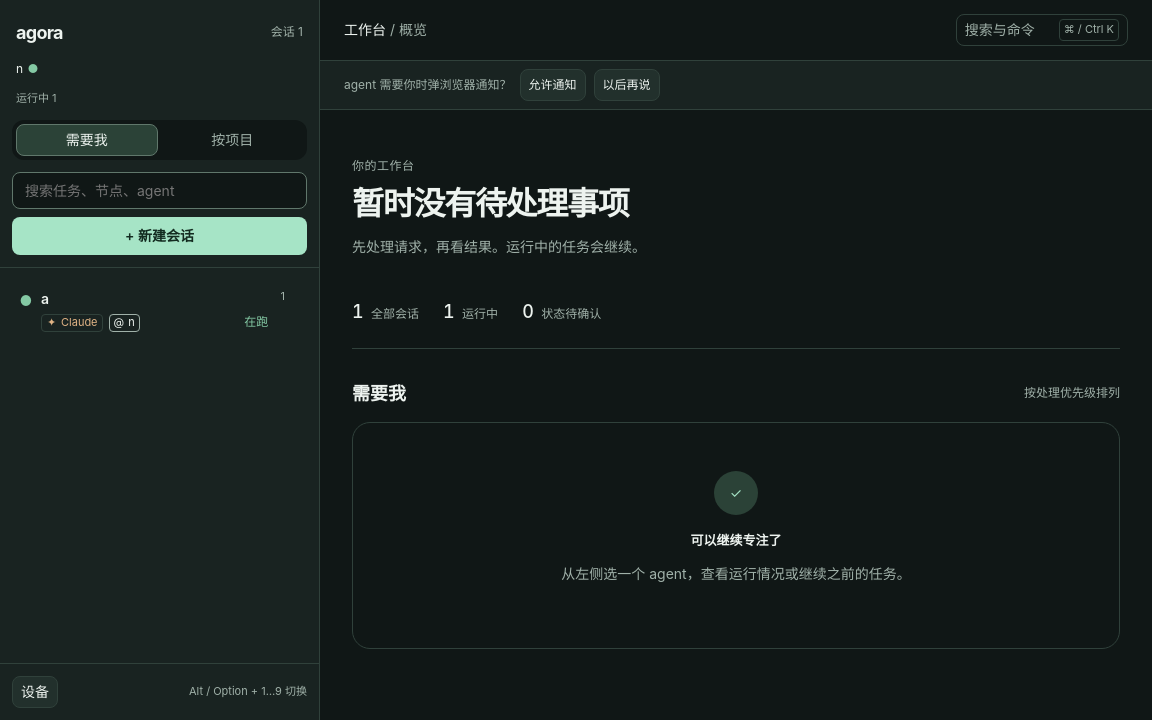
Test case: Workspace › asks for notification permission once, in a banner that goes away after the answer
Click the button "允许通知": (552, 85) [520, 69, 586, 101]
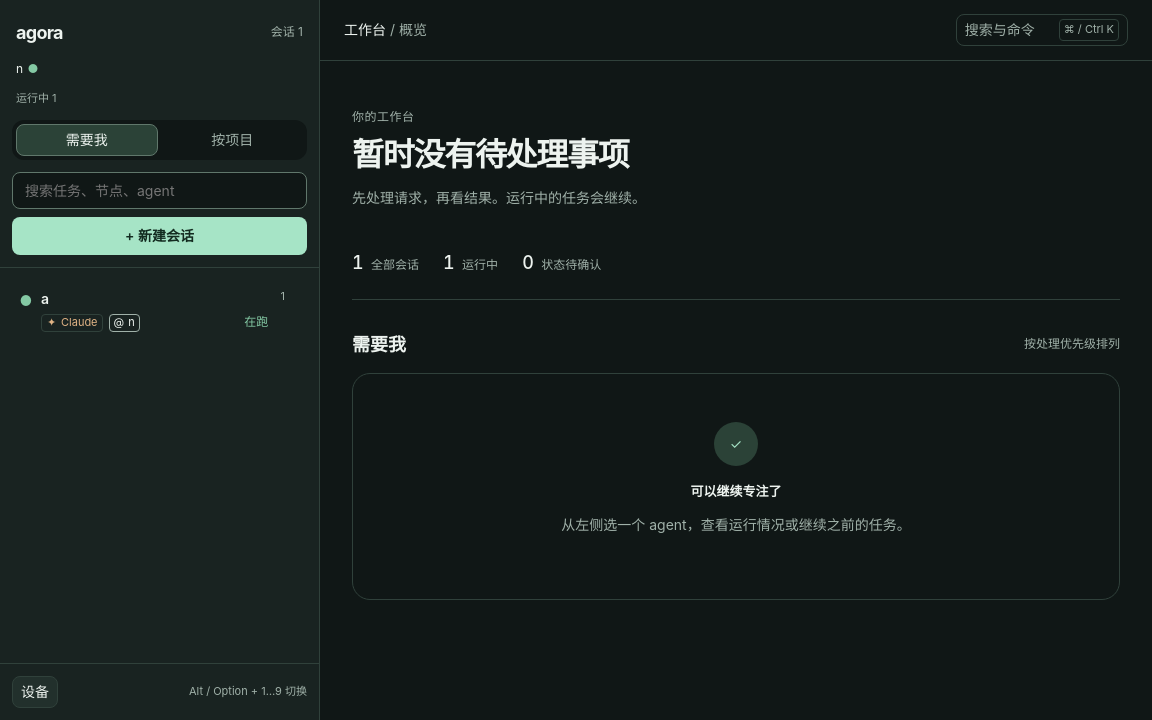
Expected: the element with test id "notify-ask" is gone
